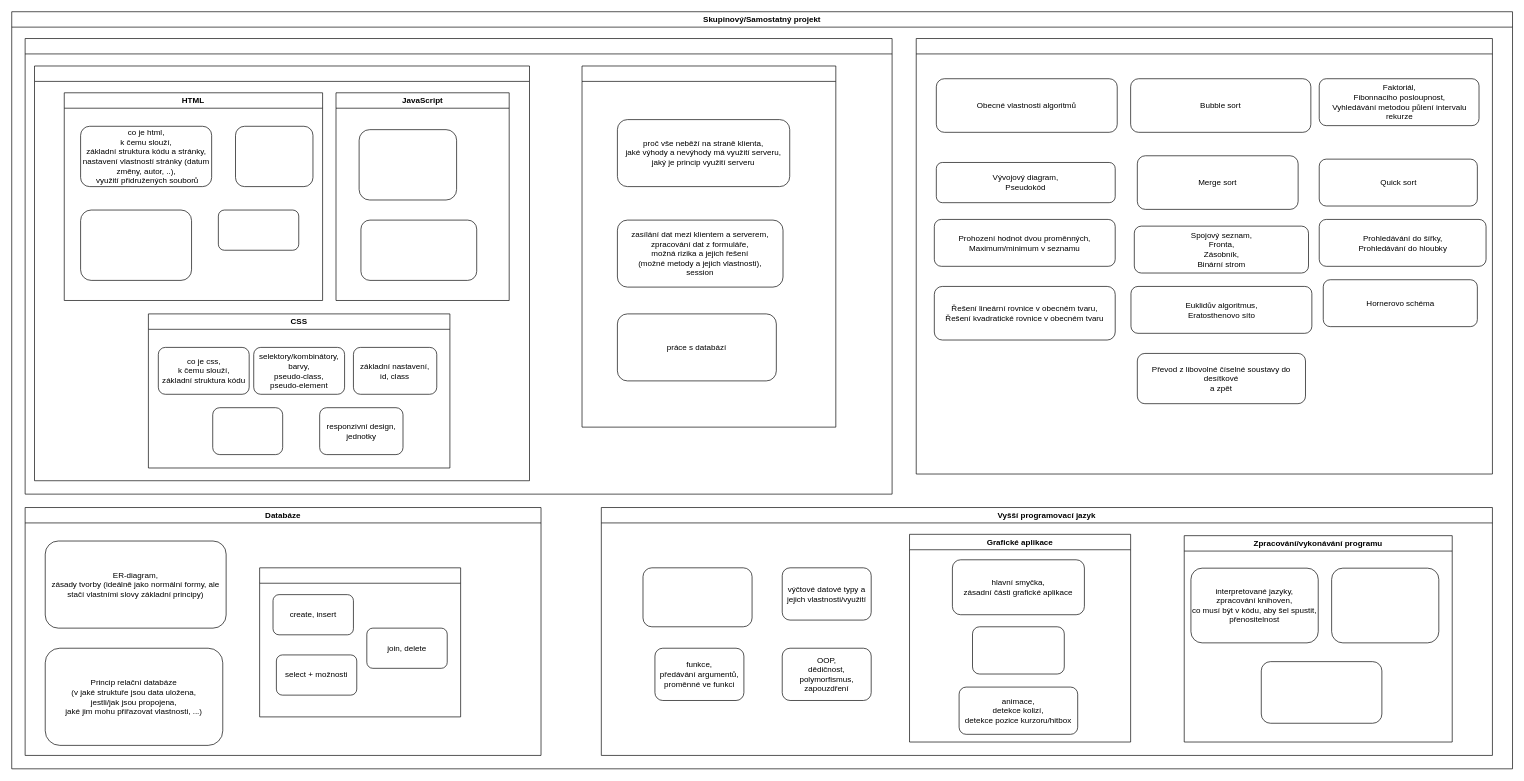
Some shapes in this 1524 by 781 pixel diagram are drawn without their labels. The shapes that lost their labels are listed below. From the top down, each one's box as (x1, y1, x2, y2) in pixels, then its label:
(235, 126, 313, 187): seznamy, tabulky, formuláře
(358, 129, 457, 200): co je JavaScript, k čemu slouží, kde běží, k čemu se dá a k čemu nedá využít
(80, 209, 192, 280): rozdělení stránky na části, základní text (odstavce, nadpisy, tučné písmo, ...)
(218, 209, 299, 250): odkazy, obrázky, atributy, id, class
(360, 219, 477, 280): jak spustit/kdy se spustí JS, reakce na události na stránce
(581, 65, 836, 427): Na straně serveru
(34, 65, 530, 481): Na straně klienta
(24, 38, 892, 494): Webové stránky
(916, 38, 1492, 474): Algoritmy
(212, 407, 283, 455): box-model
(642, 567, 752, 627): řídící struktury, proměnné a základní datové typy
(1331, 567, 1439, 643): zpracování knihoven, hlavičkové soubory, co musí být v kódu, aby šel spustit
(259, 567, 461, 717): SQL
(972, 626, 1064, 674): zpracování/detekce uživatelského vstupu
(1261, 661, 1382, 723): kompilované jazyky, kompilace, spuštění, přenositelnost
